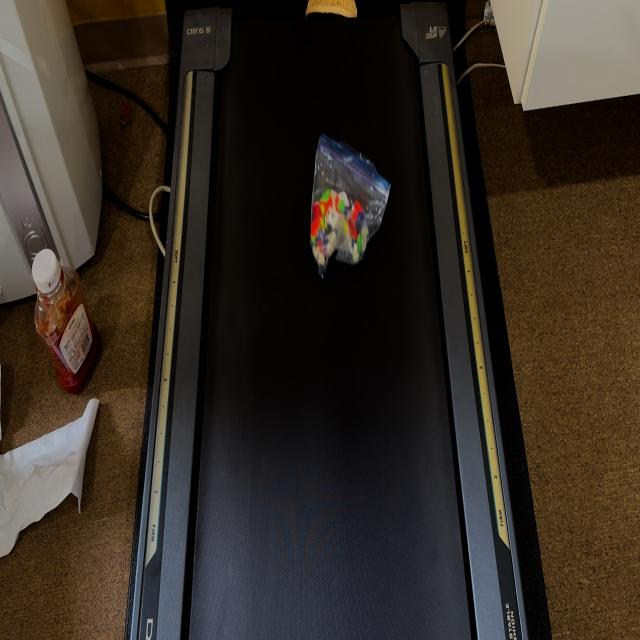Trash: (309, 134, 391, 276)
